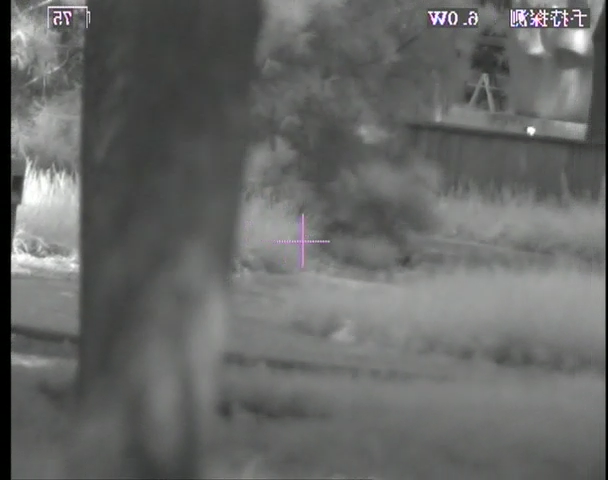my: (526, 125, 536, 136)
